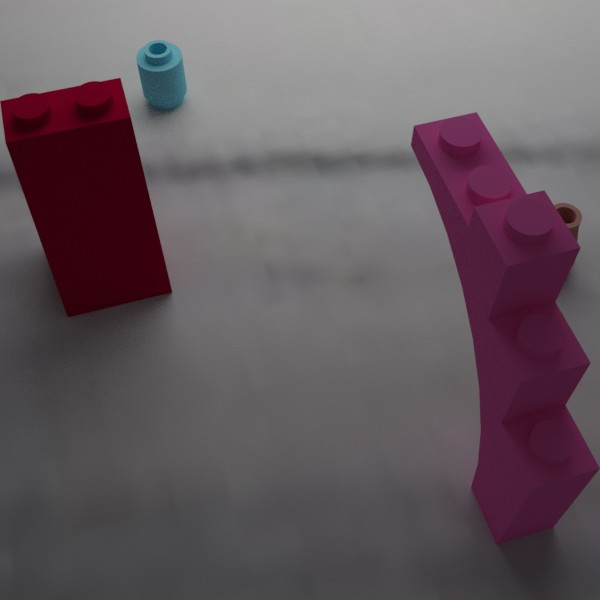lego: (410, 112, 600, 544), (0, 77, 172, 317), (523, 202, 582, 277), (136, 39, 187, 110)
